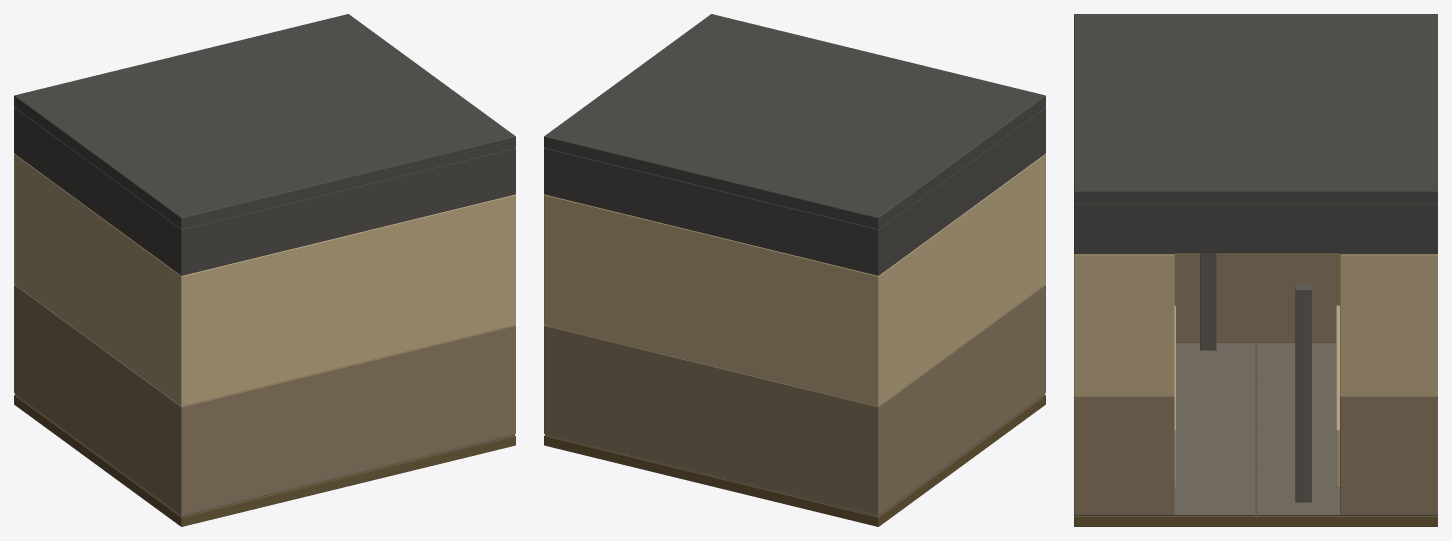
The model's file is gen-head.glb.
The picture shows the model from 3 angles, left to right: view 1: azimuth 30°, elevation 25°; view 2: azimuth 150°, elevation 25°; view 3: azimuth 270°, elevation 25°; orthographic projection. The views are drawn at different scales.
Visible parts, largest first — view 1: THE HEAD; view 2: THE HEAD; view 3: THE HEAD.
Part boxes in pixels (x1,y1,x2,y2): THE HEAD: (14,14,515,526); THE HEAD: (544,14,1045,526); THE HEAD: (1074,14,1437,526).
Size of the model in its own units: 3 by 2.65 by 2.6.
